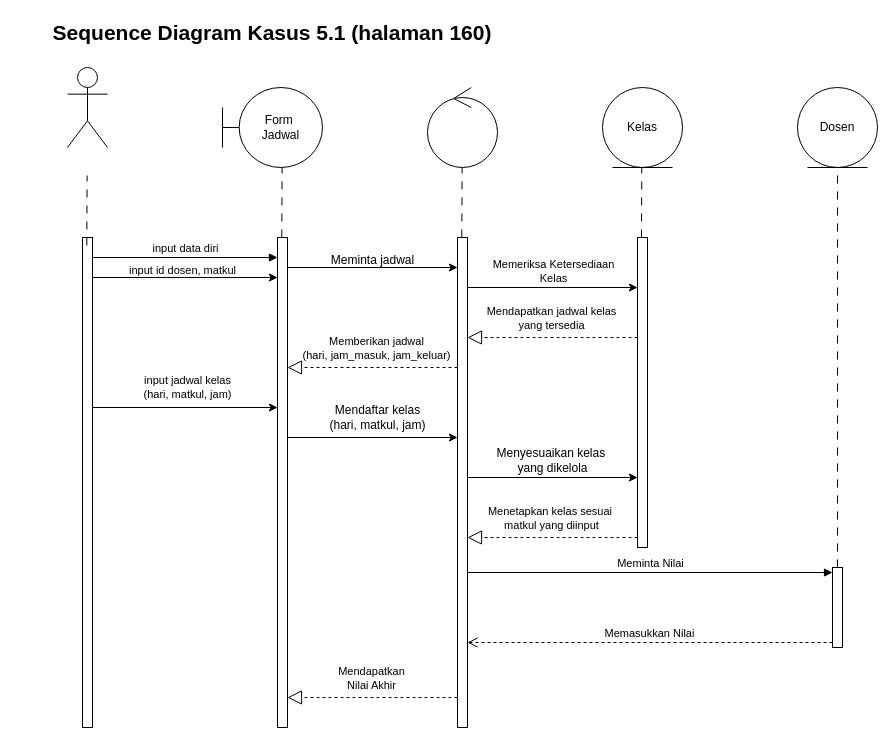
This 895x745 diagram has some shape labels left out. The shapes that lost their labels are listed below. From the top down, each one's centre as x and y in pixels, then its label:
point (87, 107): Mahasiswa
point (462, 127): Pegawai Akademik
